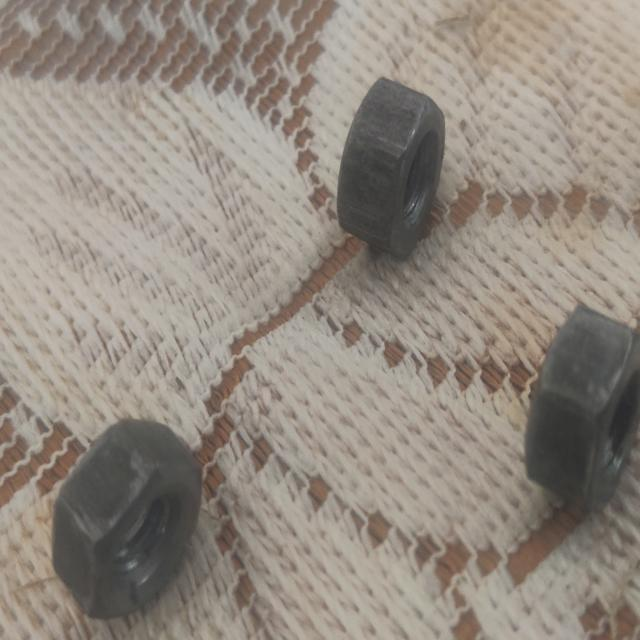disinfected nut: (52, 420, 202, 620), (525, 303, 640, 510), (338, 77, 445, 257), (135, 467, 138, 470)
